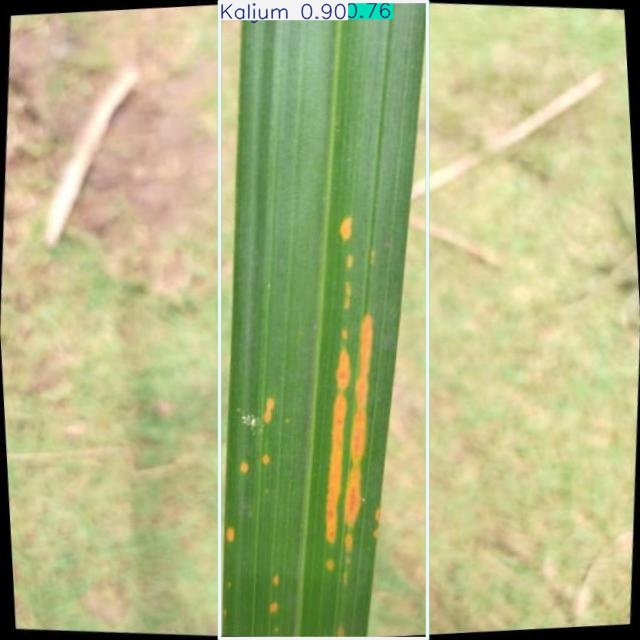Kalium: (219, 1, 427, 639)
Megnesium: (219, 0, 427, 639)
